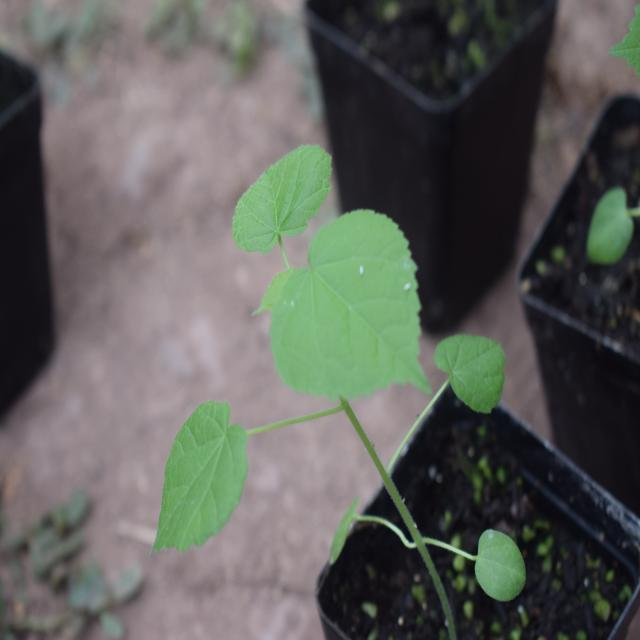abutilon theophrasti: (145, 119, 535, 593)
